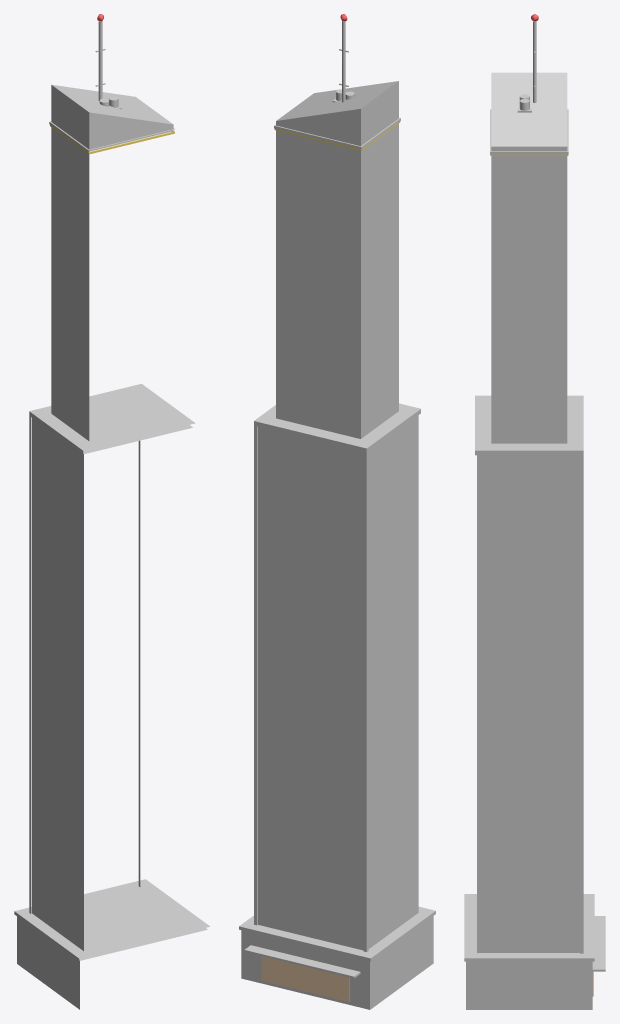
File: GlassTowerA.glb
3 renders of one model, left to right at view 1: azimuth 30°, elevation 25°; view 2: azimuth 150°, elevation 25°; view 3: azimuth 270°, elevation 25°, orthographic.
Visible parts, largest first — view 1: Body; view 2: Body, Warm; view 3: Body.
Part boxes in pixels (x1=…): Body: x1=14, y1=21, x2=209, y2=1009; Body: x1=239, y1=21, x2=435, y2=1009; Warm: x1=261, y1=956, x2=349, y2=1001; Body: x1=464, y1=21, x2=605, y2=1009.
Size of the model in its own units: 42 by 293 by 39.1.
